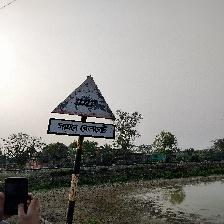Rail-crossing: (49, 76, 116, 138)
